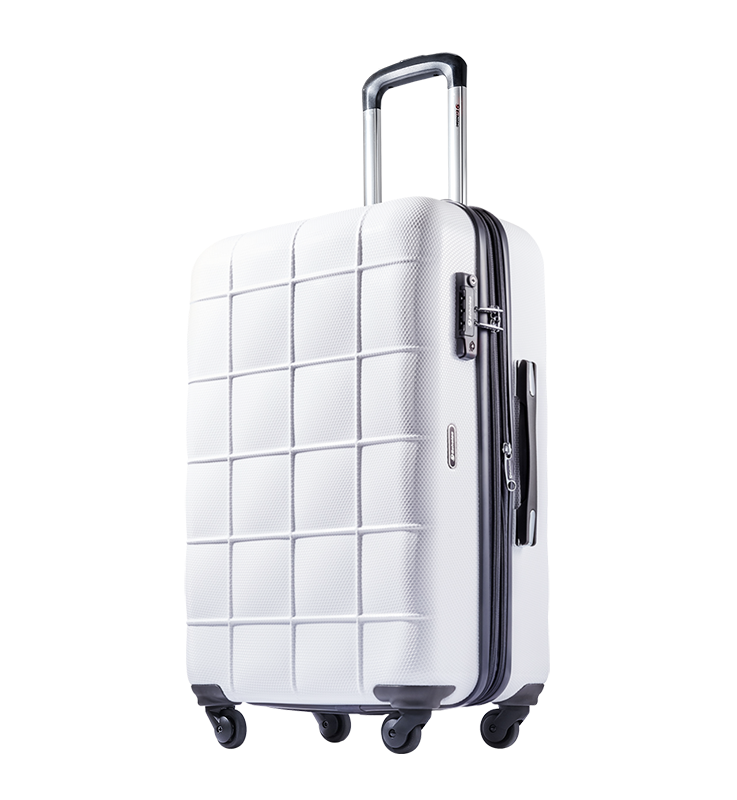box: (185, 198, 550, 713)
handle: (513, 359, 538, 547)
lock: (455, 272, 501, 361)
wheel: (380, 712, 421, 754), (480, 709, 521, 749), (210, 708, 247, 749), (317, 712, 351, 743)
